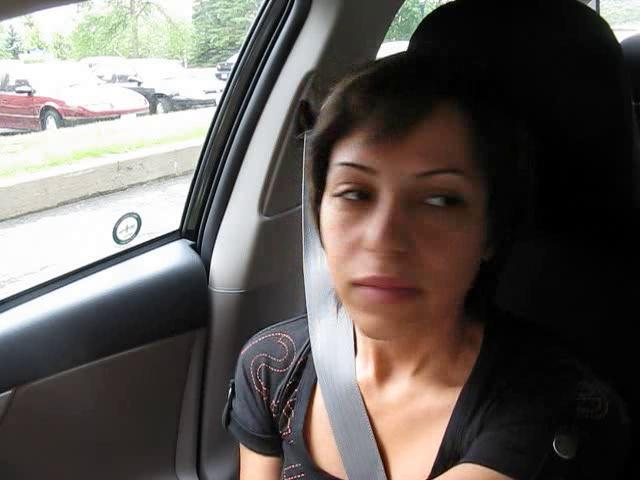close_eyeL: (323, 174, 384, 219)
close_eyeR: (400, 180, 483, 227)
no_yawn: (329, 262, 436, 319)
